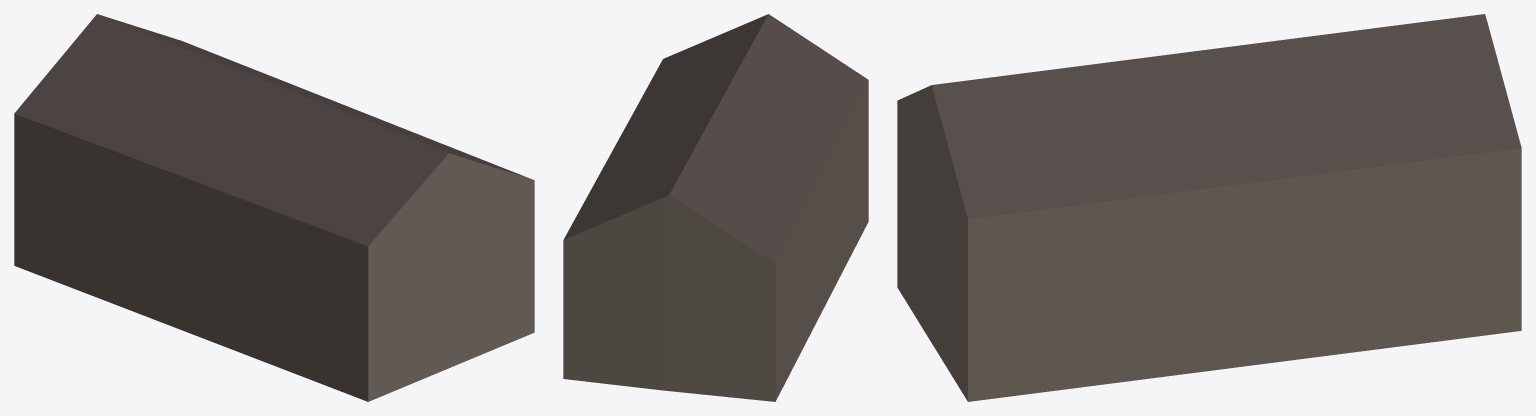
3 views of the same model, side by side, from view 1: azimuth 30°, elevation 25°; view 2: azimuth 150°, elevation 25°; view 3: azimuth 270°, elevation 25° (orthographic). The views are drawn at different scales.
Parts seen in each view (by area): view 1: HP-w1198843252; view 2: HP-w1198843252; view 3: HP-w1198843252.
Boxes of the visible parts, x1,y1,x2,y2 form: HP-w1198843252: (14, 14, 534, 401); HP-w1198843252: (563, 14, 868, 401); HP-w1198843252: (897, 14, 1521, 401).
Bounding box in the file's own units: 13.27 × 8.48 × 18.59.
